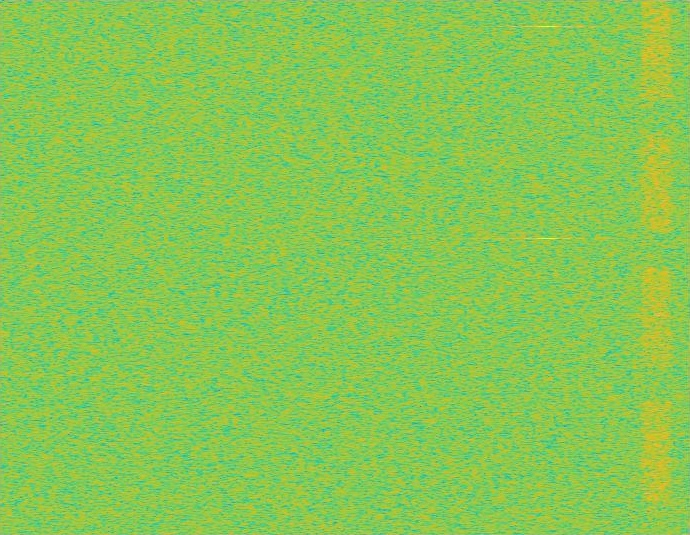5G: (640, 0, 674, 534)
Radar: (541, 0, 554, 534)
